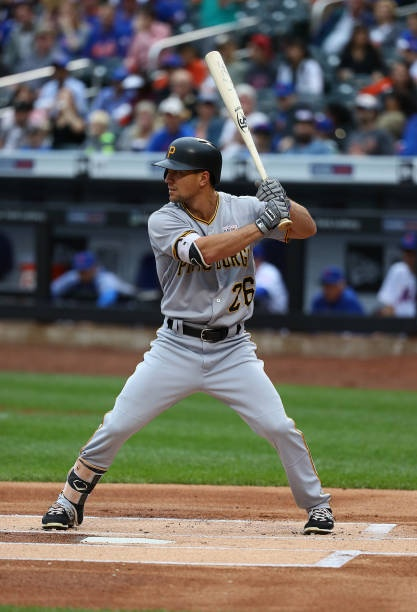bita: (202, 48, 285, 225)
